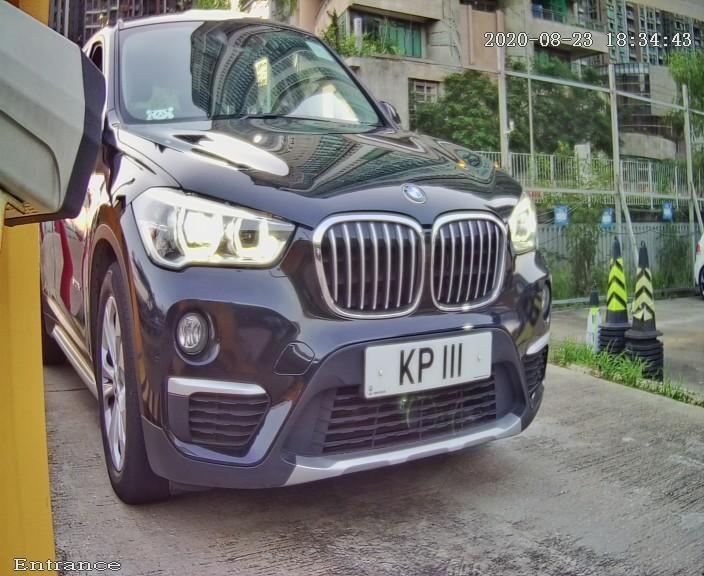Car: (16, 13, 601, 528)
License Plate: (344, 311, 525, 420)
